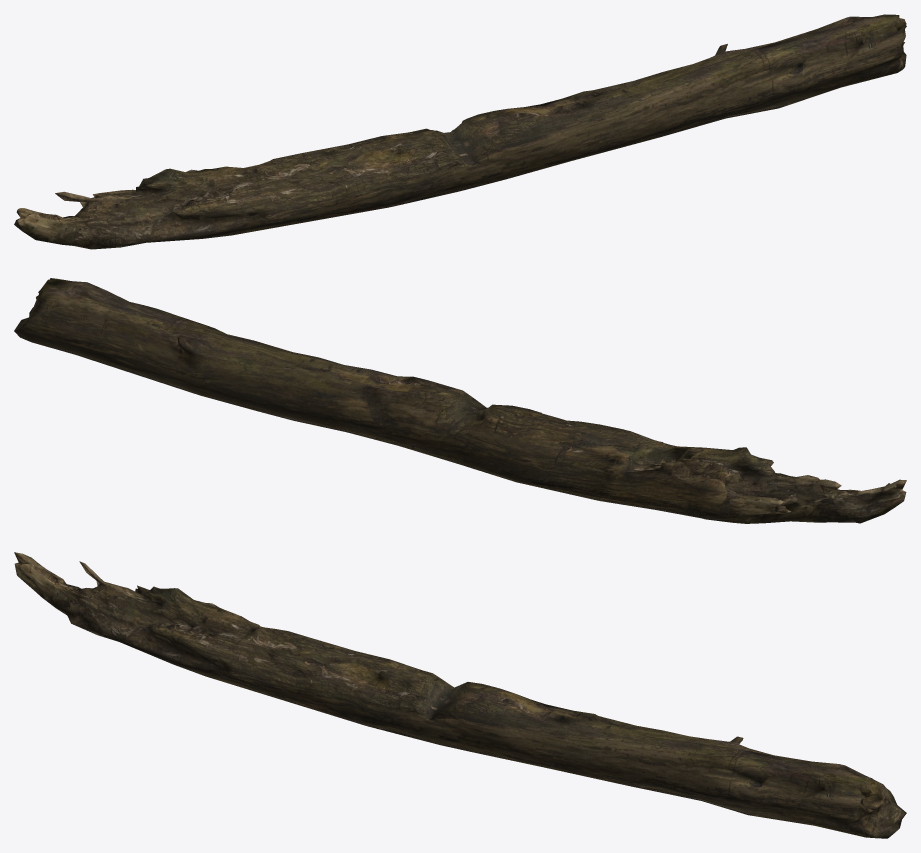
Rendered from log-0-mid.glb.
The picture shows the model from 3 angles, top to bottom: view 1: azimuth 30°, elevation 25°; view 2: azimuth 150°, elevation 25°; view 3: azimuth 330°, elevation 25°; orthographic projection.
Parts seen in each view (by area): view 1: dead_tree_trunk; view 2: dead_tree_trunk; view 3: dead_tree_trunk.
Boxes of the visible parts, bbox=[...] form: dead_tree_trunk: bbox=[14, 14, 906, 249]; dead_tree_trunk: bbox=[14, 278, 906, 523]; dead_tree_trunk: bbox=[14, 552, 906, 838].
Size of the model in its own units: 3.04 by 0.2869 by 0.2746.
Materials: 1 (1 with a texture image).
